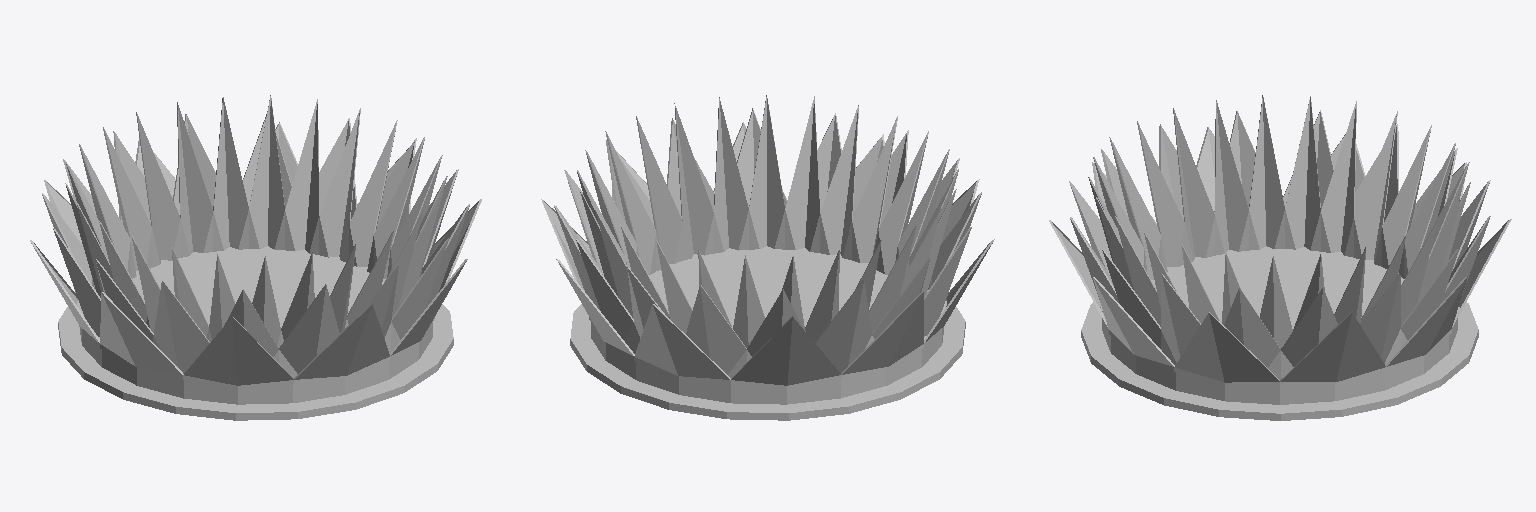
The model's file is portal_000025.obj.
The picture shows the model from 3 angles: view 1: azimuth 30°, elevation 25°; view 2: azimuth 150°, elevation 25°; view 3: azimuth 270°, elevation 25°; orthographic projection.
Parts seen in each view (by area): view 1: Cylinder.001, pCylinder1, Cylinder; view 2: Cylinder.001, pCylinder1, Cylinder; view 3: Cylinder.001, pCylinder1, Cylinder.
Part boxes in pixels (left/top/right/bottom): Cylinder.001: left=65, top=95, right=447, bottom=347; pCylinder1: left=30, top=122, right=481, bottom=420; Cylinder: left=42, top=114, right=469, bottom=378; Cylinder.001: left=577, top=95, right=958, bottom=347; pCylinder1: left=541, top=122, right=994, bottom=420; Cylinder: left=554, top=108, right=981, bottom=378; Cylinder.001: left=1088, top=95, right=1470, bottom=348; pCylinder1: left=1049, top=127, right=1511, bottom=420; Cylinder: left=1069, top=110, right=1490, bottom=379.
Bounding box in the file's own units: 7.09 × 2.9 × 7.45.